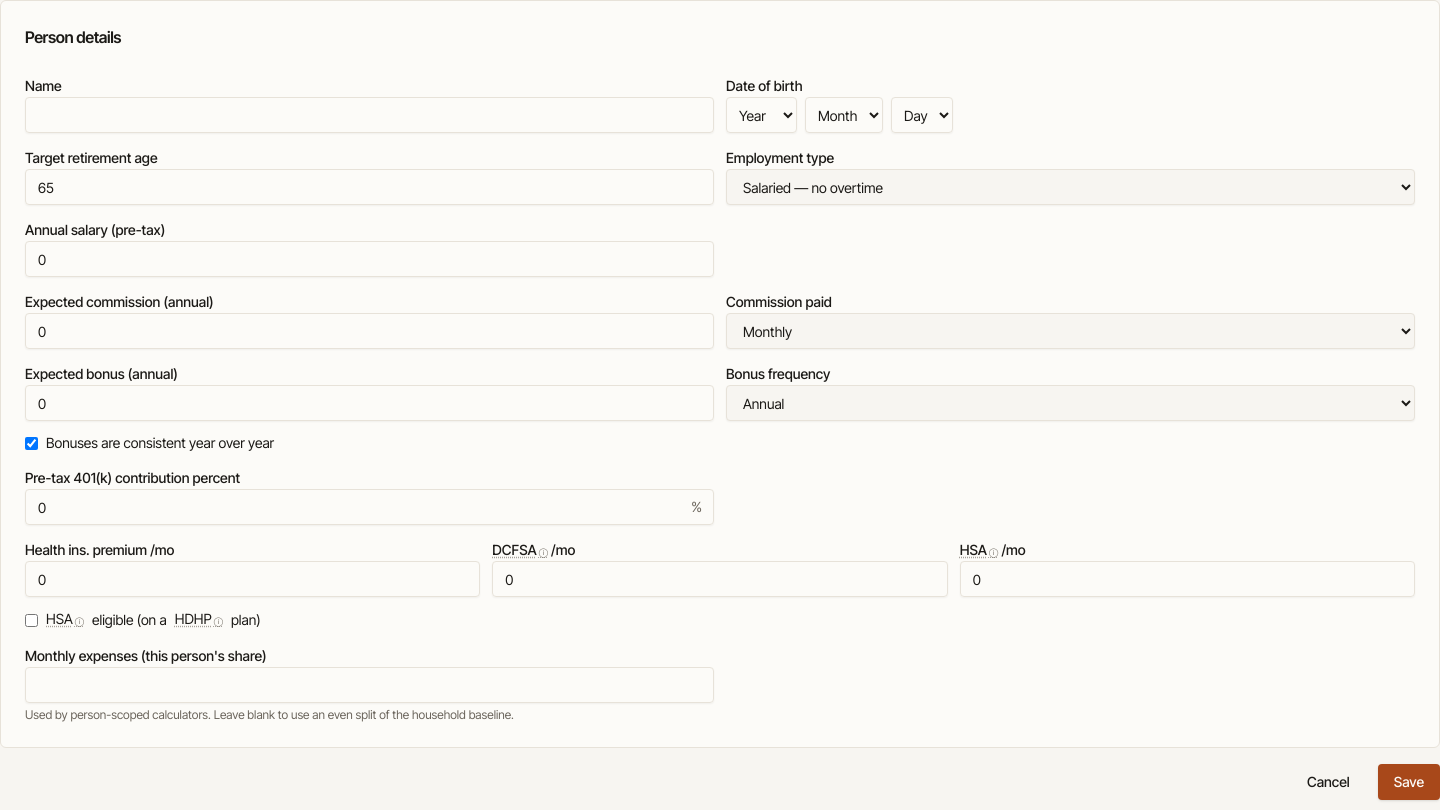
Scenario: PersonForm — validation errors › shows an error banner when submitting with an empty date of birth
Type "Alice" into the field labelled "Name" at (370, 115), box top-left (25, 97), bottom-right (714, 133)
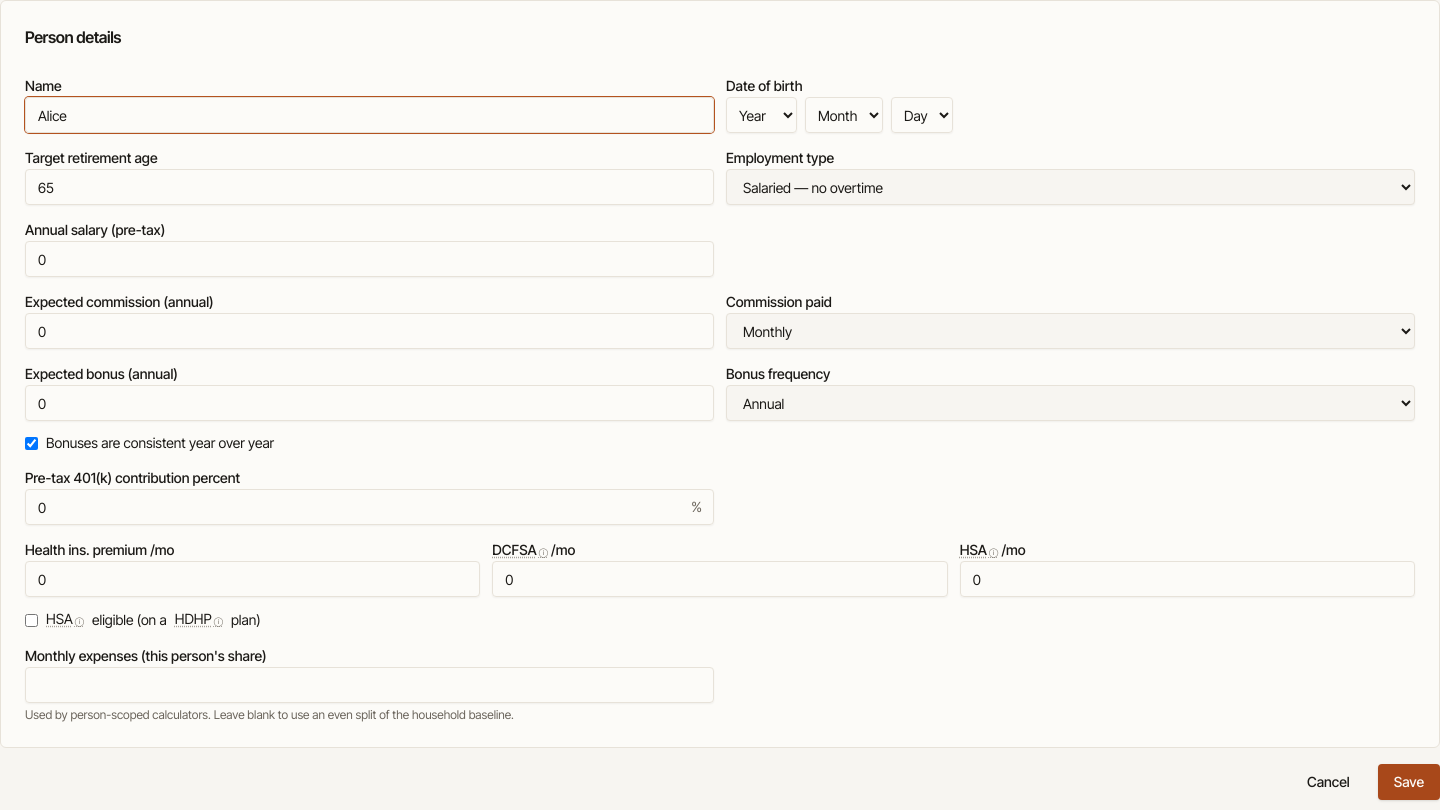
Click the button "Save" at (1409, 782), box top-left (1378, 764), bottom-right (1439, 800)
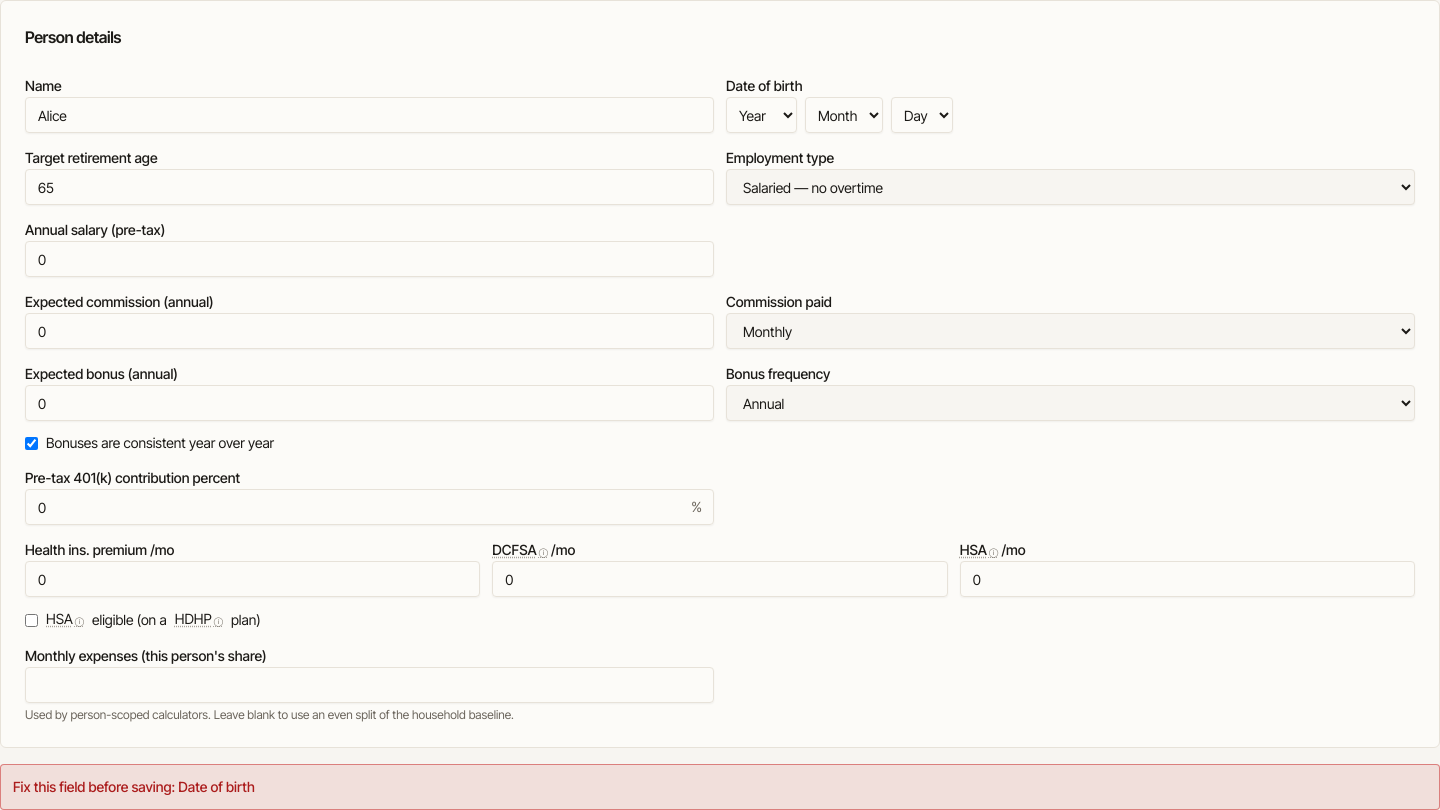
Expected: the message shows "Fix this field before saving", top-left (0, 764), bottom-right (1439, 809)
Expected: the message shows "Date of birth", top-left (178, 778), bottom-right (255, 795)
